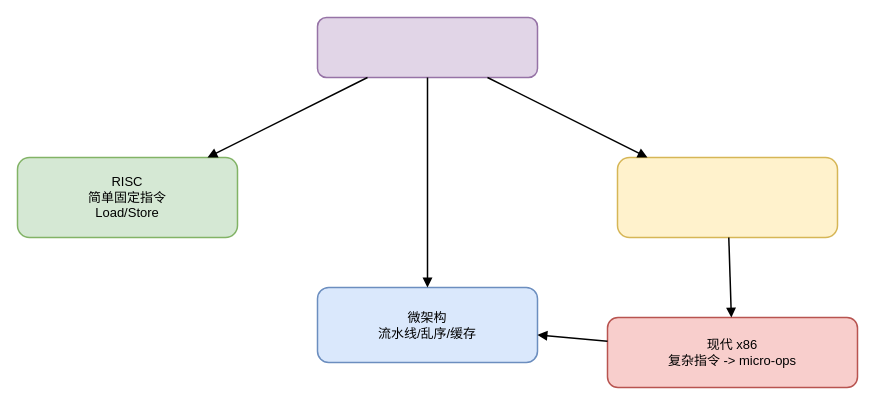
Some shapes in this 876 by 406 pixel diagram are drawn without their labels. Each missing label, with the centre of its shape:
CISC 复杂变长指令 寻址方式多: pixel 727 197
ISA 软件可见契约: pixel 427 47
